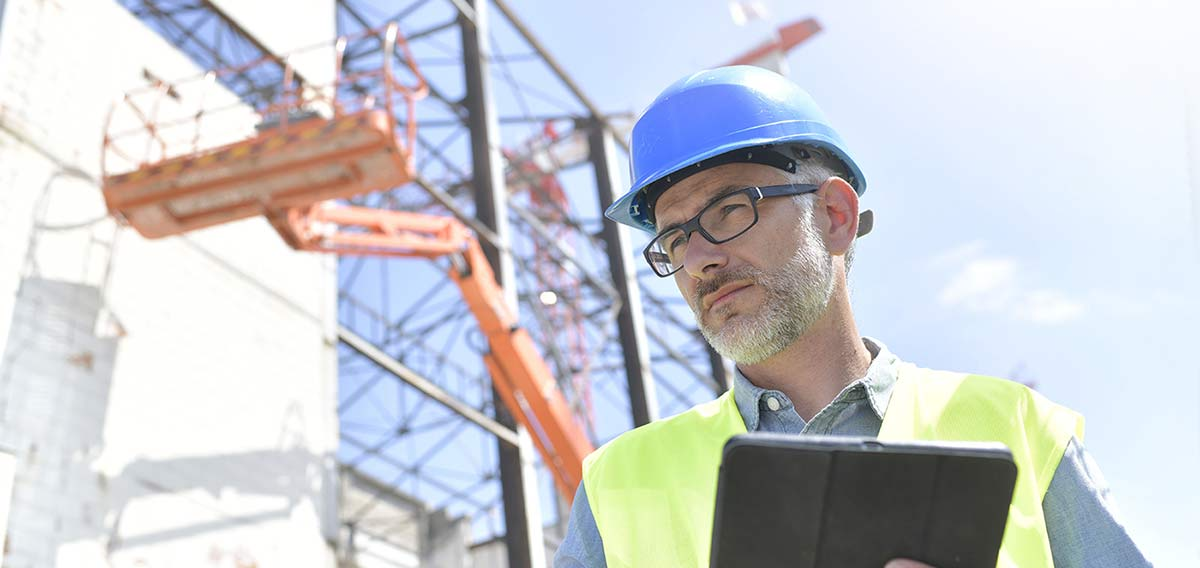hard hat: (605, 63, 869, 232)
high-vis: (580, 362, 1088, 568)
